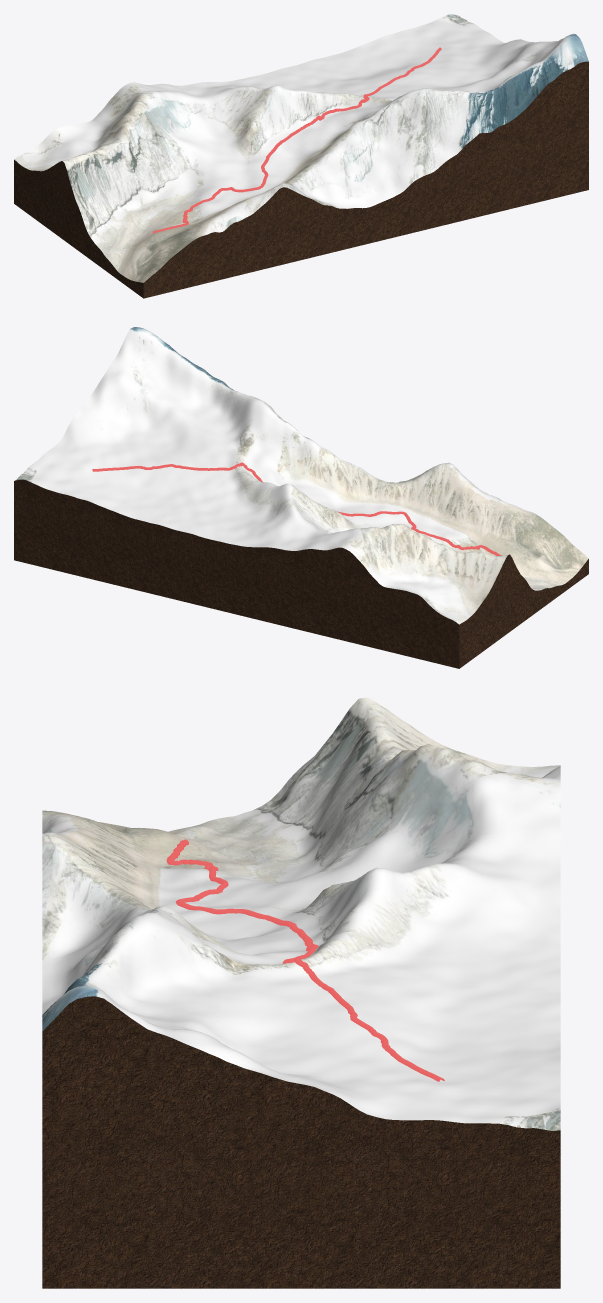
3 renders of one model, top to bottom at view 1: azimuth 30°, elevation 25°; view 2: azimuth 150°, elevation 25°; view 3: azimuth 270°, elevation 25°, orthographic. The views are drawn at different scales.
Visible parts, largest first — view 1: mesh, sideN, sideE, defaultPath; view 2: mesh, sideS, sideE, defaultPath; view 3: mesh, sideW, defaultPath.
Boxes of the visible parts, x1,y1,x2,y2 form: mesh: (14,14,588,282); sideN: (143,61,588,298); sideE: (14,160,143,298); defaultPath: (152,47,441,233); mesh: (14,327,588,624); sideS: (14,479,459,668); sideE: (459,554,588,668); defaultPath: (92,462,501,555); mesh: (42,697,560,1130); sideW: (42,996,560,1288); defaultPath: (166,839,444,1081).
Bounding box in the file's own units: 30 × 9.45 × 15.13.
4 materials, 2 textured.
